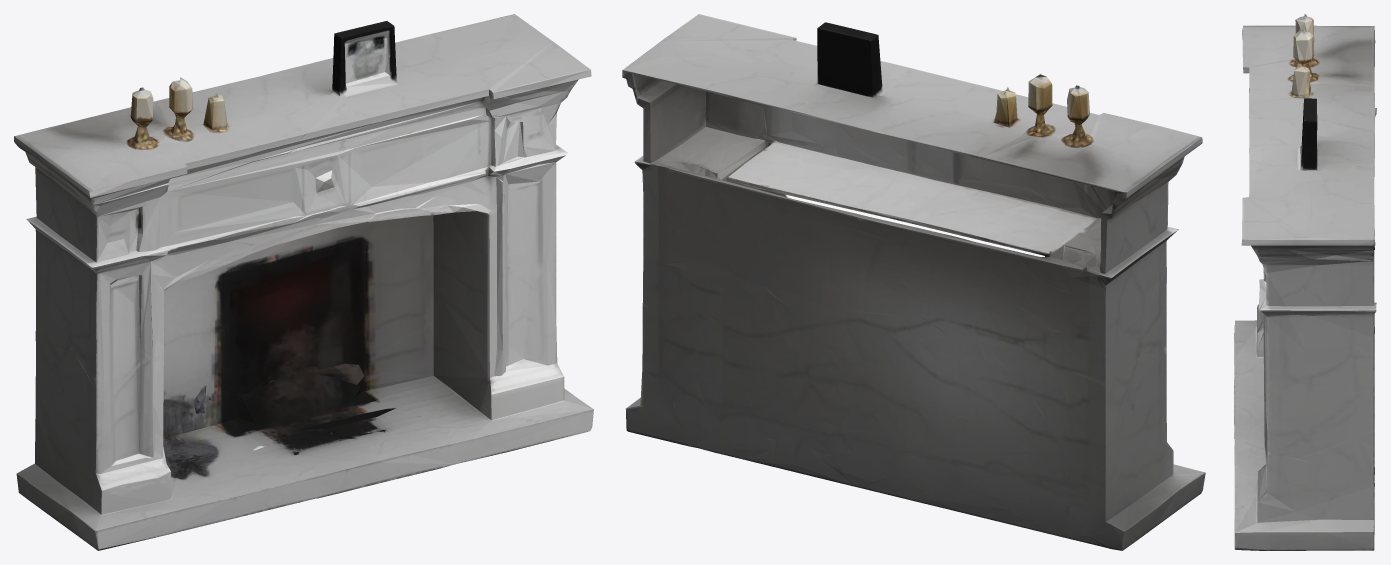
File: fireplace.glb
3 renders of one model, left to right at view 1: azimuth 30°, elevation 25°; view 2: azimuth 150°, elevation 25°; view 3: azimuth 270°, elevation 25°, orthographic. The views are drawn at different scales.
Parts seen in each view (by area): view 1: world; view 2: world; view 3: world.
Boxes of the visible parts, x1,y1,x2,y2 form: world: (14,14,593,550); world: (622,14,1205,550); world: (1234,14,1376,550).
Bounding box in the file's own units: 0.9991 × 0.7928 × 0.2822.
1 material, 1 textured.
